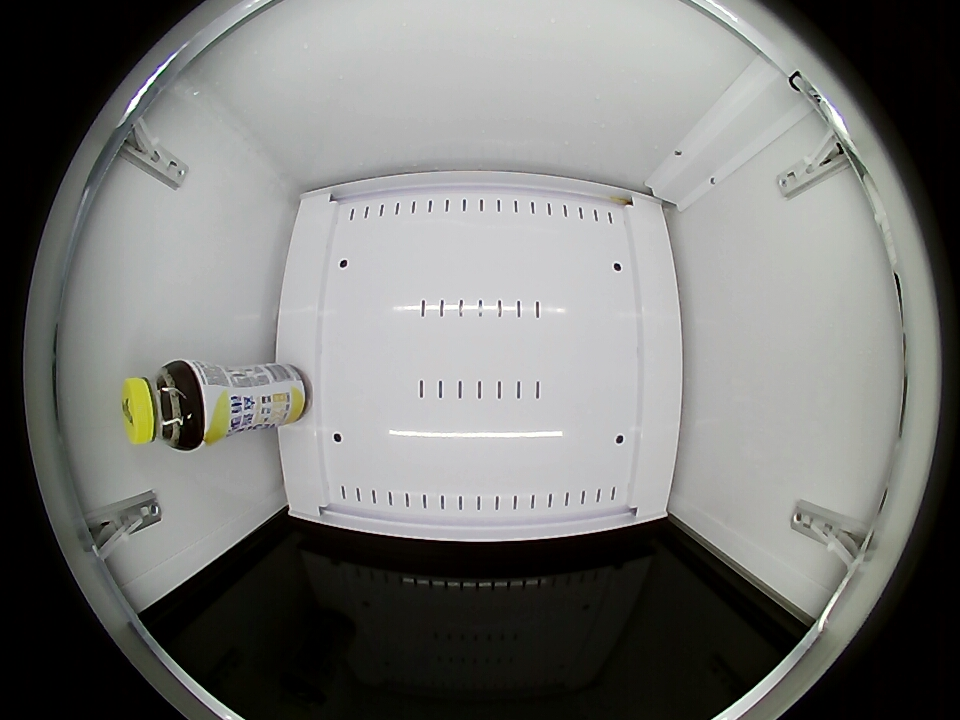chacui: (122, 359, 205, 451)
